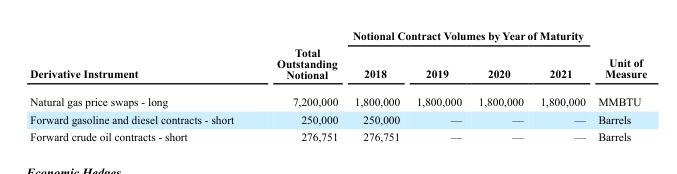table: (29, 29, 646, 142)
table column: (29, 29, 254, 142), (254, 29, 344, 142), (344, 29, 407, 142), (407, 29, 469, 142), (469, 29, 531, 142), (531, 29, 591, 142), (591, 29, 646, 142)
table column header: (29, 29, 646, 87)
table row: (29, 54, 646, 87), (29, 29, 646, 54), (29, 87, 646, 109), (29, 109, 646, 127), (29, 127, 646, 142)
table spanning cell: (29, 29, 254, 87), (344, 29, 591, 54), (254, 29, 344, 87), (591, 29, 646, 87)
